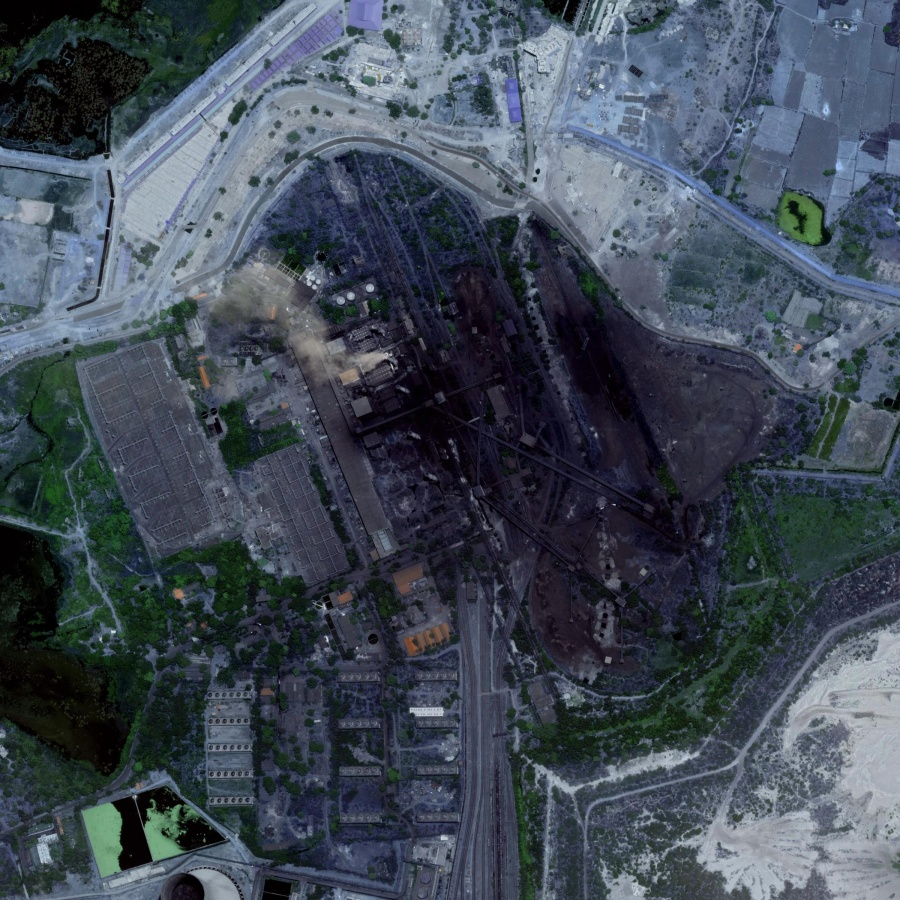PowerPlant: (229, 136, 720, 675)
